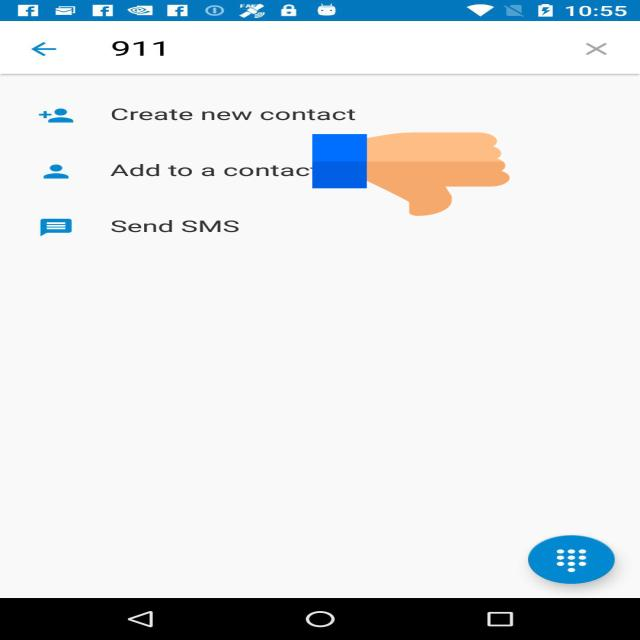obstruction: (312, 130, 510, 218)
